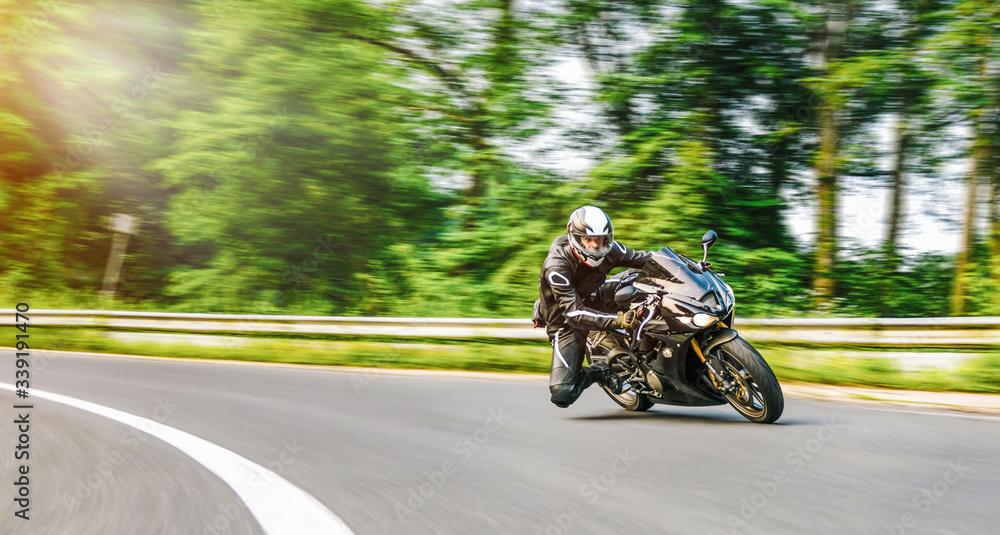helmet: (567, 205, 615, 270)
